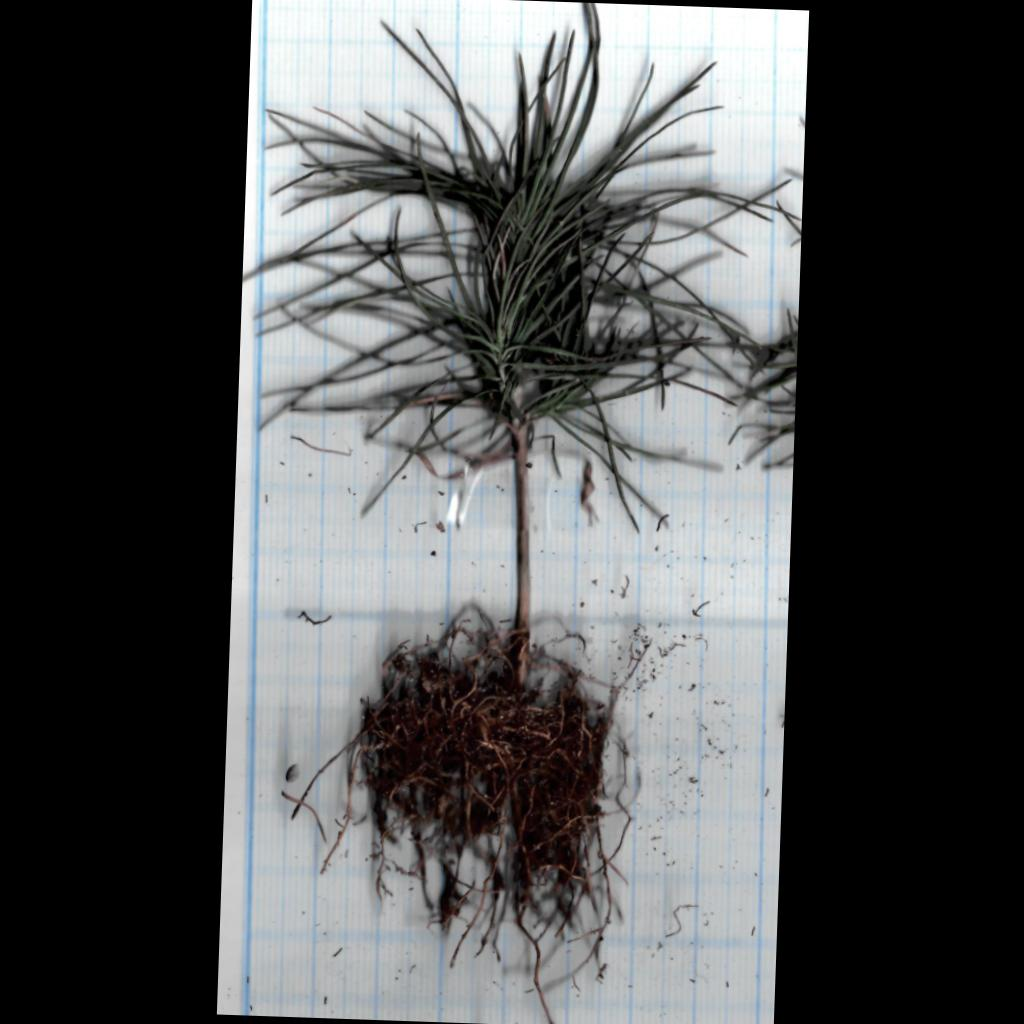flowerCedr: (253, 3, 770, 529)
rootCedr: (283, 620, 631, 1023)
stemCedr: (515, 427, 530, 684)
